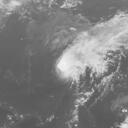cyclone: (56, 29, 103, 80)
